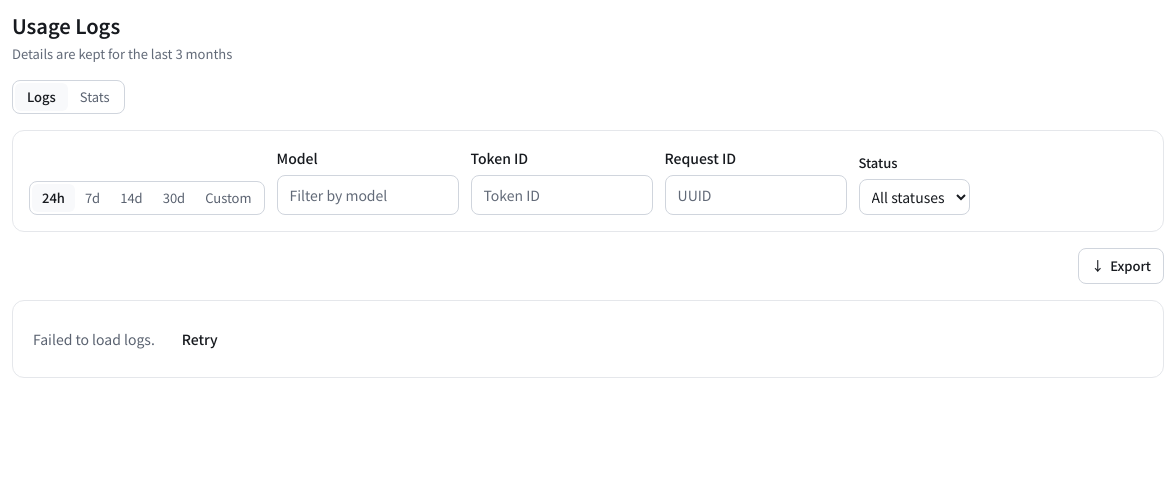
Test: usage logs list › shows an inline error and retries
Expected: the text "Failed to load logs." is shown, [33,328,155,350]
Click the button "Retry". click: x=200, y=339
box: [167,321,233,357]
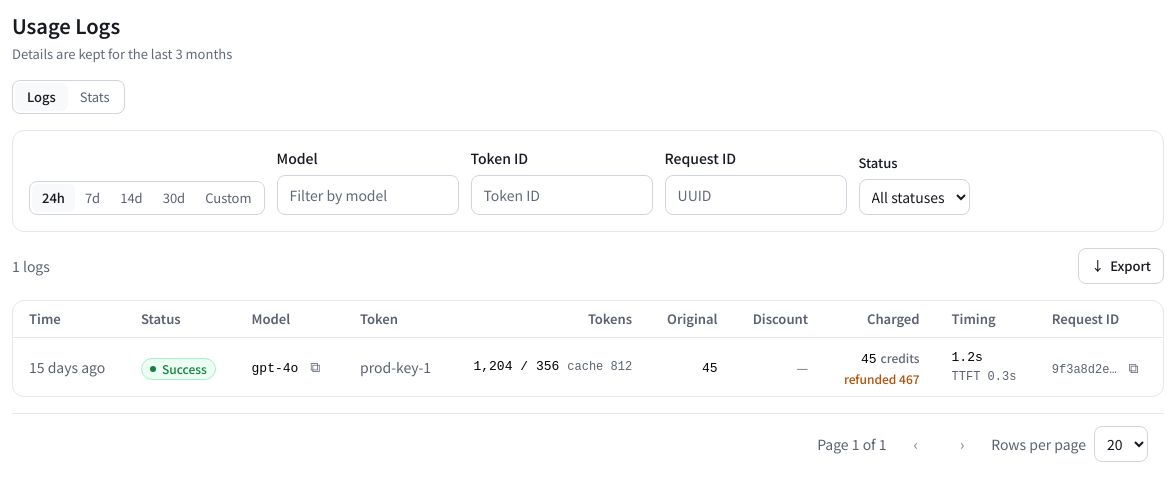
Expected: the text "gpt-4o" is shown, [252,361,298,376]
